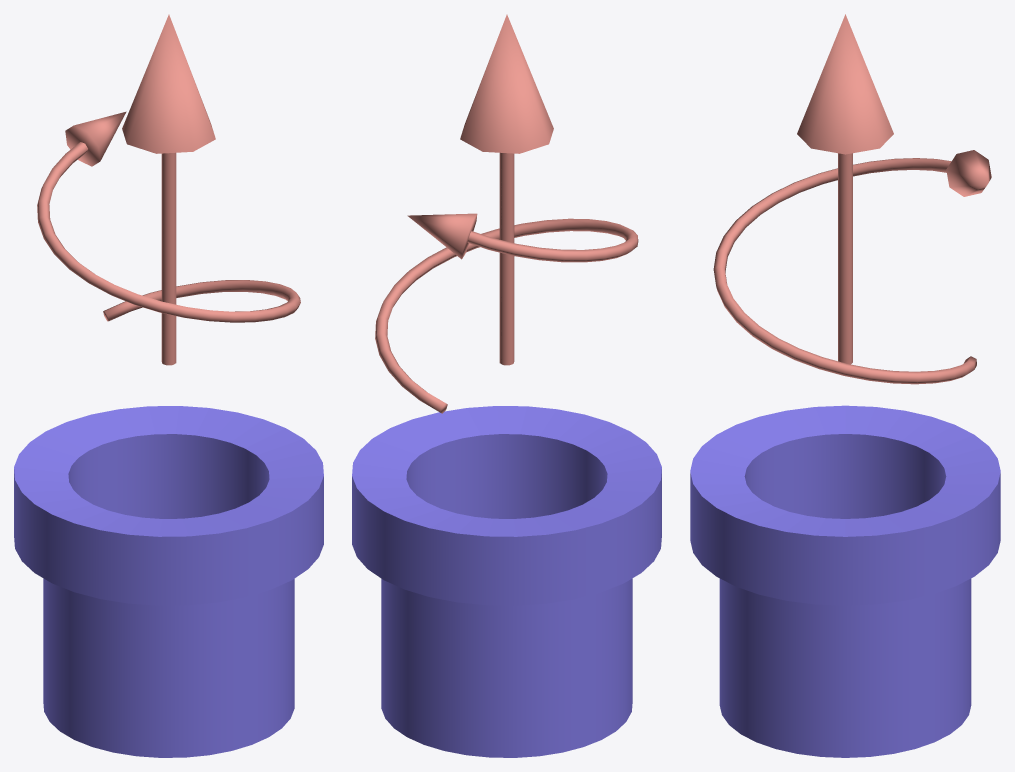
The model's file is ParticleEmitterModel.glb.
3 renders of one model, left to right at view 1: azimuth 30°, elevation 25°; view 2: azimuth 150°, elevation 25°; view 3: azimuth 270°, elevation 25°, orthographic.
Parts seen in each view (by area): view 1: ParticleEmitterModel, DirectionAxle, SpinAxle; view 2: ParticleEmitterModel, DirectionAxle, SpinAxle; view 3: ParticleEmitterModel, DirectionAxle, SpinAxle.
Part boxes in pixels (x1=…): ParticleEmitterModel: x1=14, y1=406, x2=323, y2=757; DirectionAxle: x1=122, y1=14, x2=215, y2=365; SpinAxle: x1=37, y1=111, x2=300, y2=322; ParticleEmitterModel: x1=352, y1=406, x2=661, y2=757; DirectionAxle: x1=460, y1=14, x2=553, y2=365; SpinAxle: x1=375, y1=213, x2=638, y2=413; ParticleEmitterModel: x1=690, y1=405, x2=1000, y2=757; DirectionAxle: x1=797, y1=14, x2=893, y2=364; SpinAxle: x1=713, y1=150, x2=991, y2=384.
Size of the model in its own units: 2.47 by 6.05 by 2.47.
